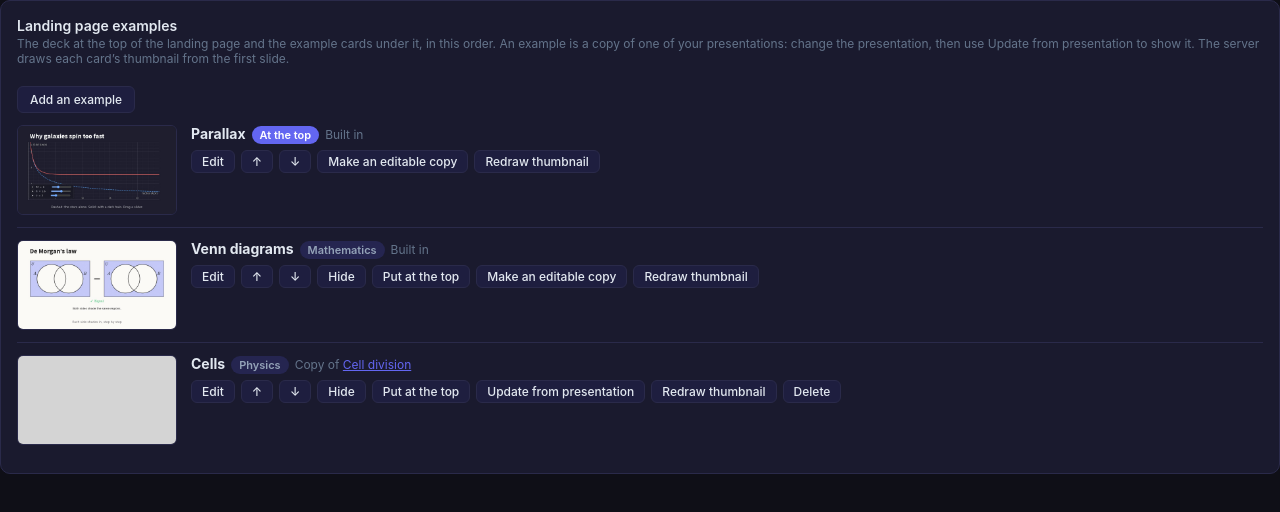
Test: the landing page examples, in /admin › makes an editable copy of a built-in one, and links to it
Click the button "Make an editable copy" below "Venn diagrams".
click(552, 276)  # box [476,265,627,288]
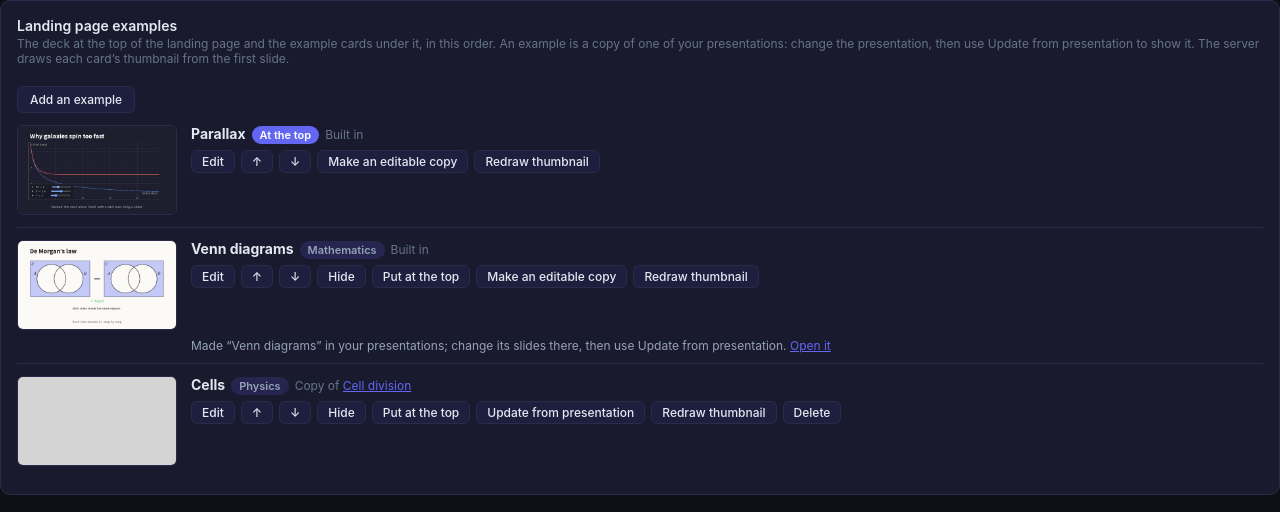
Expected: the message shows "Made “Venn diagrams” in your presentations", [191,338,787,353]
